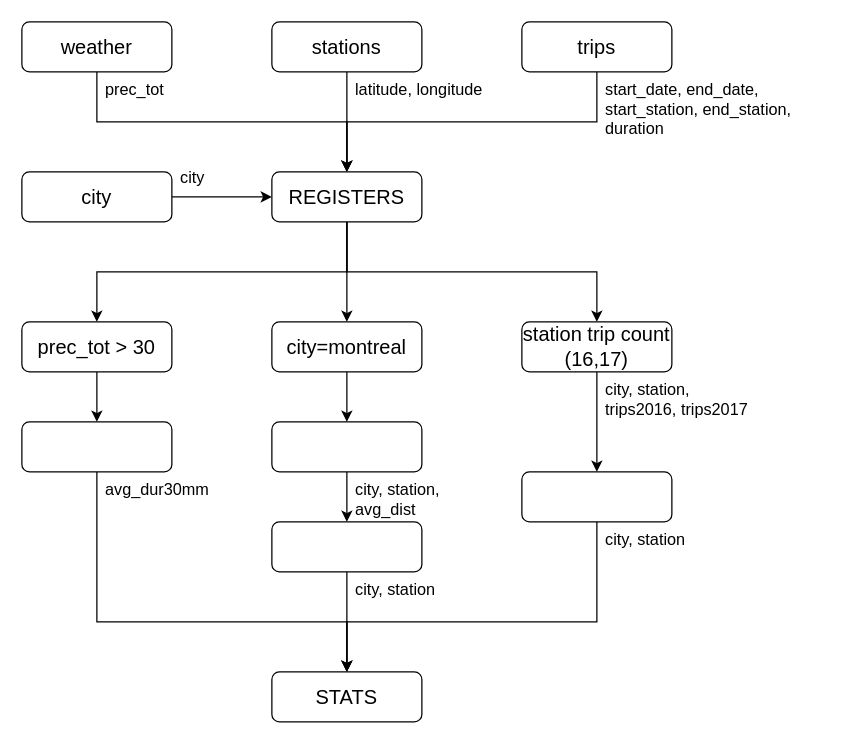
This 844x744 diagram has some shape labels left out. The shapes that lost their labels are listed below. From the top down, each one's centre as x and y in pixels, then its label:
At point 96,446: "avg(duration)".
At point 346,446: "station avg distances".
At point 596,496: "trips2017 >= 2*trips 2016".
At point 346,546: "distance>=6km".
